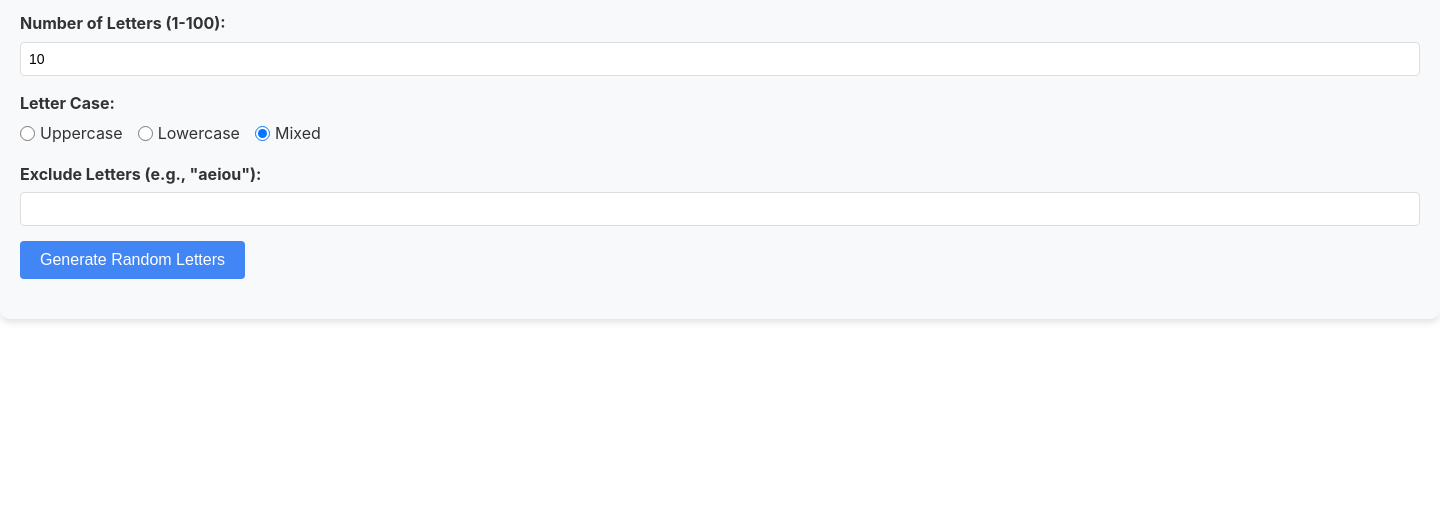
Test: RandomLetterGenerator › generates random letters when button is clicked
The width and height of the screenshot is (1440, 522).
# Click the generate button
Click the button "Generate Random Letters": [132, 260] box [20,241,245,279]
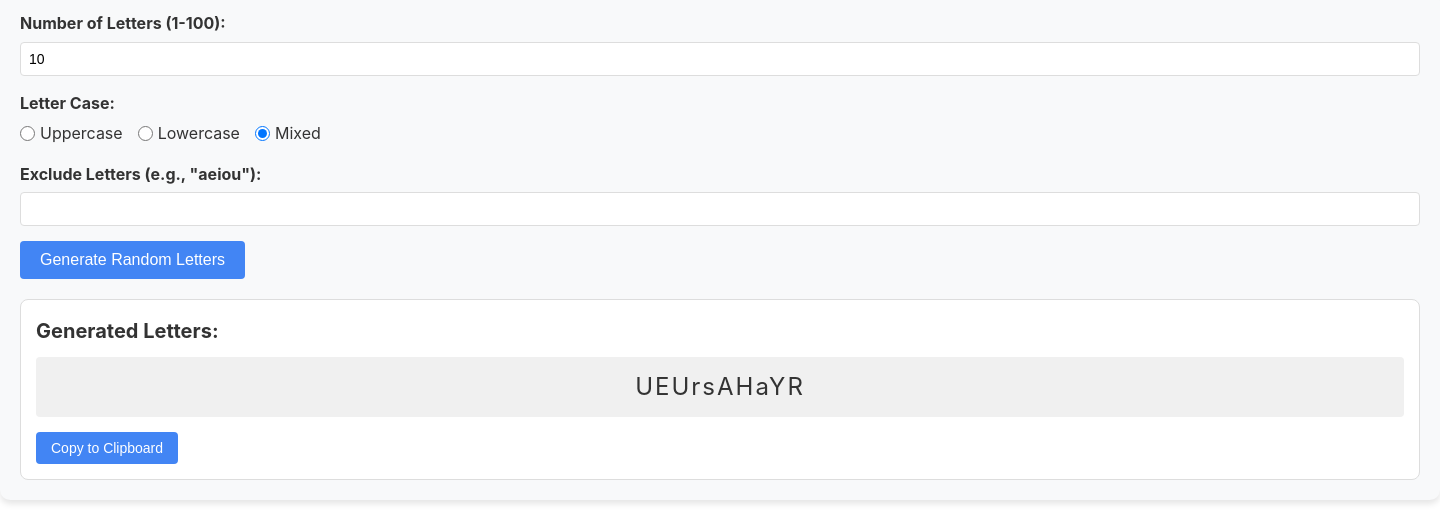
Check: the heading "Generated Letters:" is shown, box [36,319,219,343]
Check: the button "Copy to Clipboard" is shown, box [36,432,178,464]
